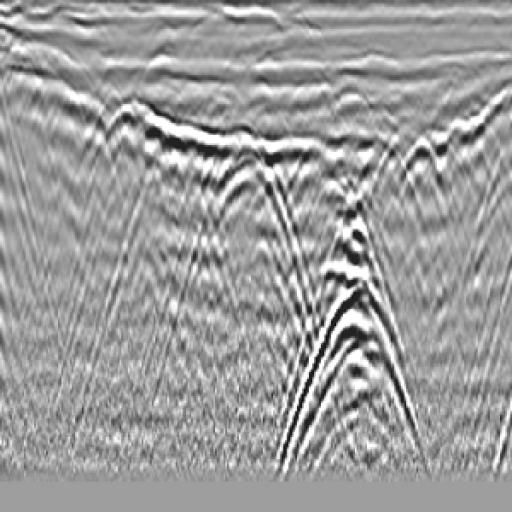metalic: (185, 131, 311, 324)
